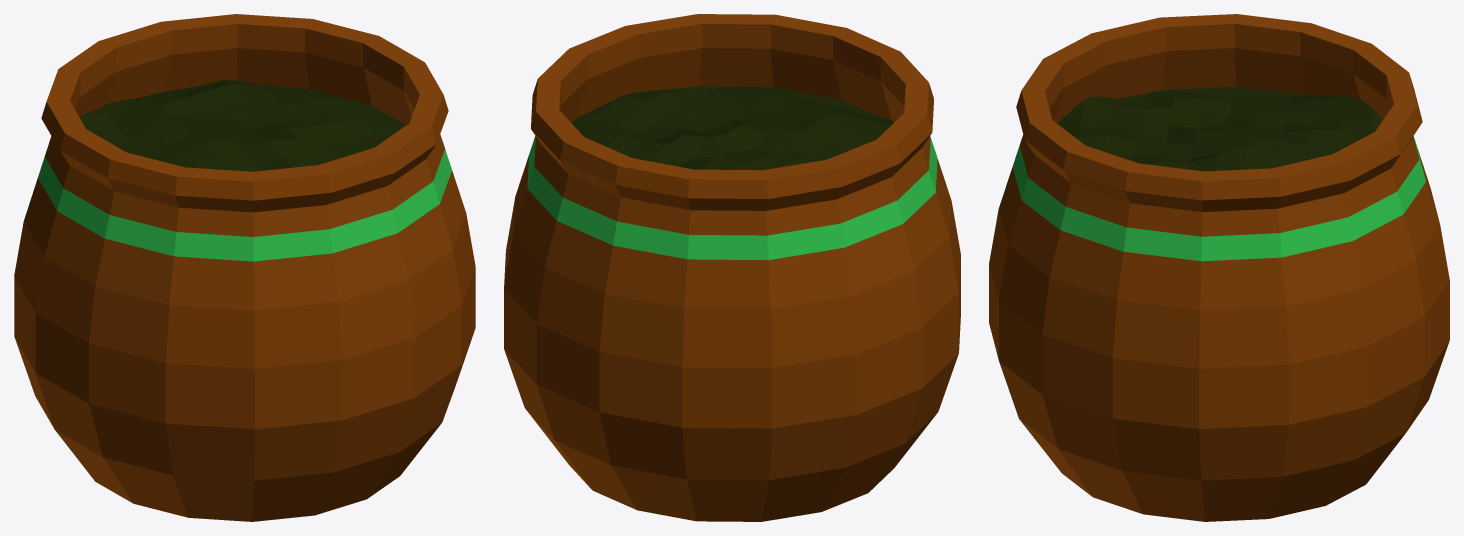
File: pot_green.glb
3 views of the same model, side by side, from view 1: azimuth 30°, elevation 25°; view 2: azimuth 150°, elevation 25°; view 3: azimuth 270°, elevation 25° (orthographic).
Parts seen in each view (by area): view 1: pot_green, dirt; view 2: pot_green, dirt; view 3: pot_green, dirt.
Part boxes in pixels (x1=…): pot_green: x1=14, y1=14, x2=475, y2=521; dirt: x1=79, y1=80, x2=406, y2=171; pot_green: x1=504, y1=14, x2=960, y2=521; dirt: x1=572, y1=86, x2=894, y2=170; pot_green: x1=989, y1=14, x2=1449, y2=521; dirt: x1=1057, y1=86, x2=1382, y2=171.
Bounding box in the file's own units: 1.6 × 1.36 × 1.6.
